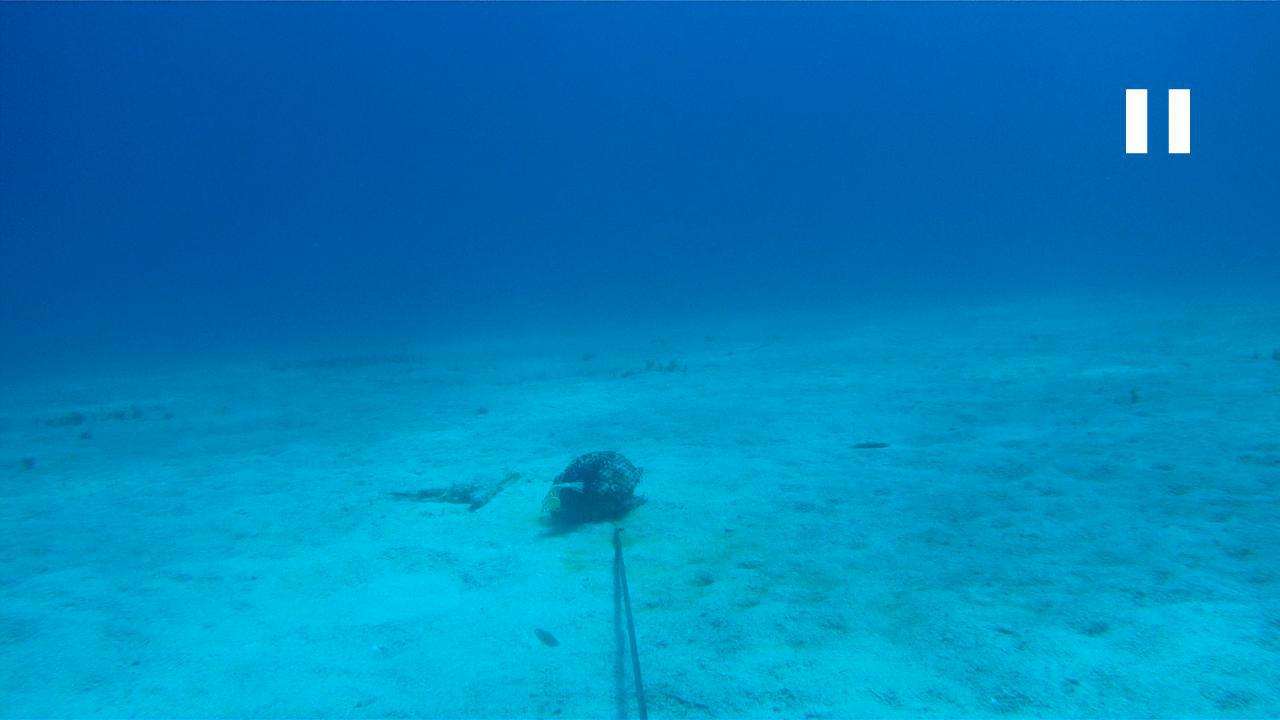bothus: (848, 433, 888, 452)
